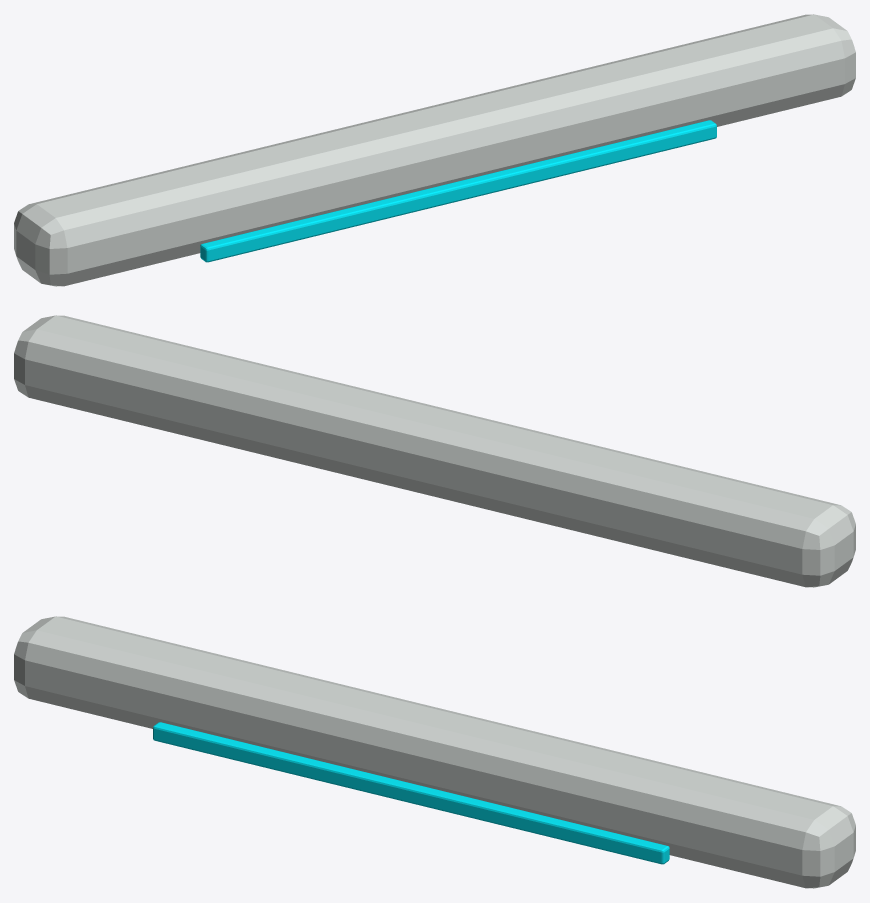
The model's file is LPK_Ceiling_Straight_4m.fbx.
The picture shows the model from 3 angles, top to bottom: view 1: azimuth 30°, elevation 25°; view 2: azimuth 150°, elevation 25°; view 3: azimuth 330°, elevation 25°; orthographic projection.
Parts seen in each view (by area): view 1: LPK_Ceiling_Straight_4m_Beam, LPK_Ceiling_Straight_4m_Light; view 2: LPK_Ceiling_Straight_4m_Beam; view 3: LPK_Ceiling_Straight_4m_Beam, LPK_Ceiling_Straight_4m_Light.
Boxes of the visible parts, x1,y1,x2,y2 form: LPK_Ceiling_Straight_4m_Beam: (14, 14, 855, 286); LPK_Ceiling_Straight_4m_Light: (200, 120, 716, 262); LPK_Ceiling_Straight_4m_Beam: (14, 315, 855, 587); LPK_Ceiling_Straight_4m_Beam: (14, 616, 855, 888); LPK_Ceiling_Straight_4m_Light: (153, 722, 669, 864).
Bounding box in the file's own units: 4 × 0.32 × 0.41.
